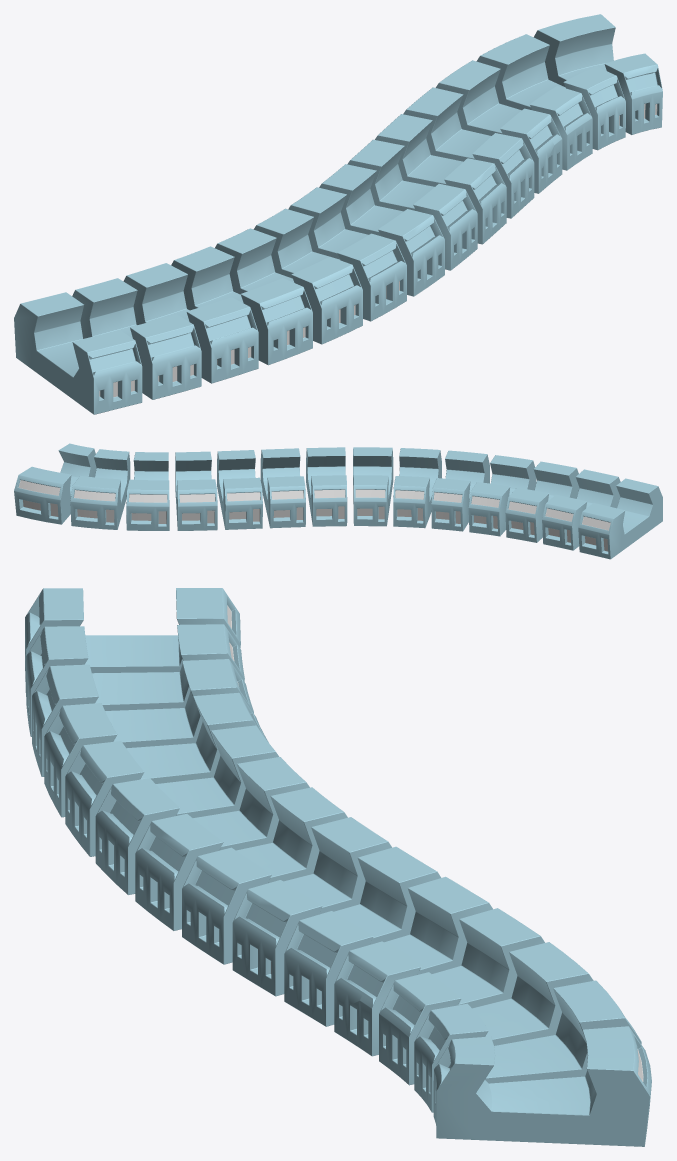
Rendered from Pillar Rails.fbx.
3 views of the same model, one above another, from view 1: azimuth 30°, elevation 25°; view 2: azimuth 150°, elevation 25°; view 3: azimuth 270°, elevation 25° (orthographic). The views are drawn at different scales.
Visible parts, largest first — view 1: Cube.050; view 2: Cube.050; view 3: Cube.050.
Boxes of the visible parts, left/top/right/bottom form: Cube.050: left=14, top=14, right=662, bottom=414; Cube.050: left=14, top=443, right=662, bottom=559; Cube.050: left=25, top=588, right=651, bottom=1146.
Bounding box in the file's own units: 4151 × 319 × 2287.
